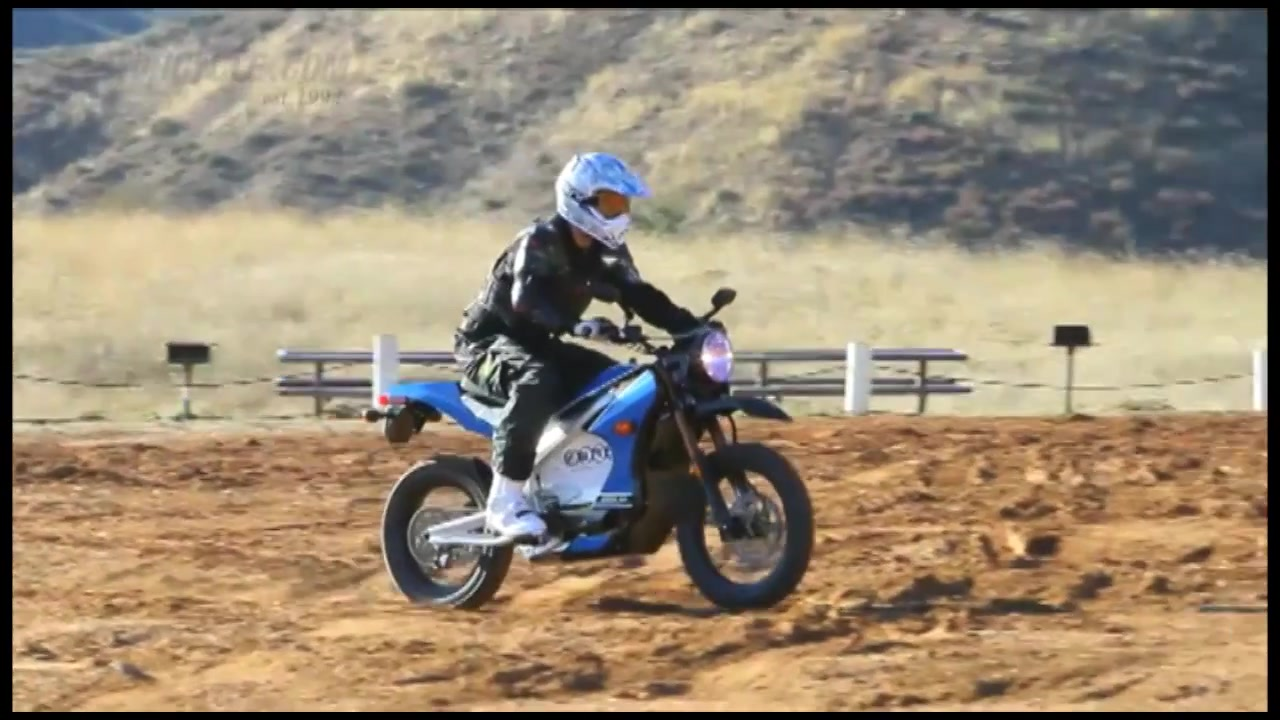motorbike: (366, 289, 816, 617)
